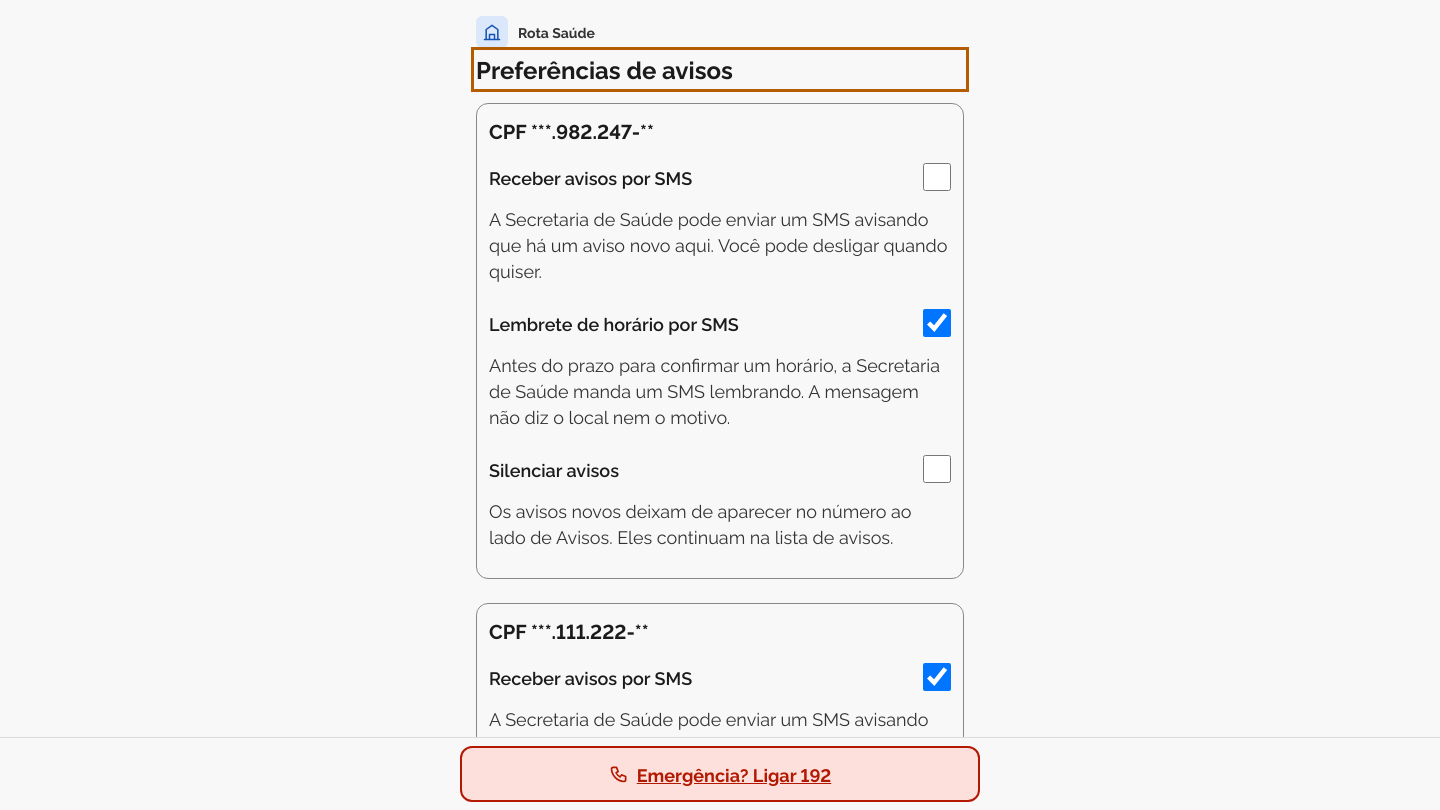
it: PreferencesStep › falha ao salvar: o interruptor volta, a seção mostra a mensagem e o Flow não é avisado
Step 1. Click the 1st switch labelled "Receber avisos por SMS" → [937, 177], box [923,163,951,191]
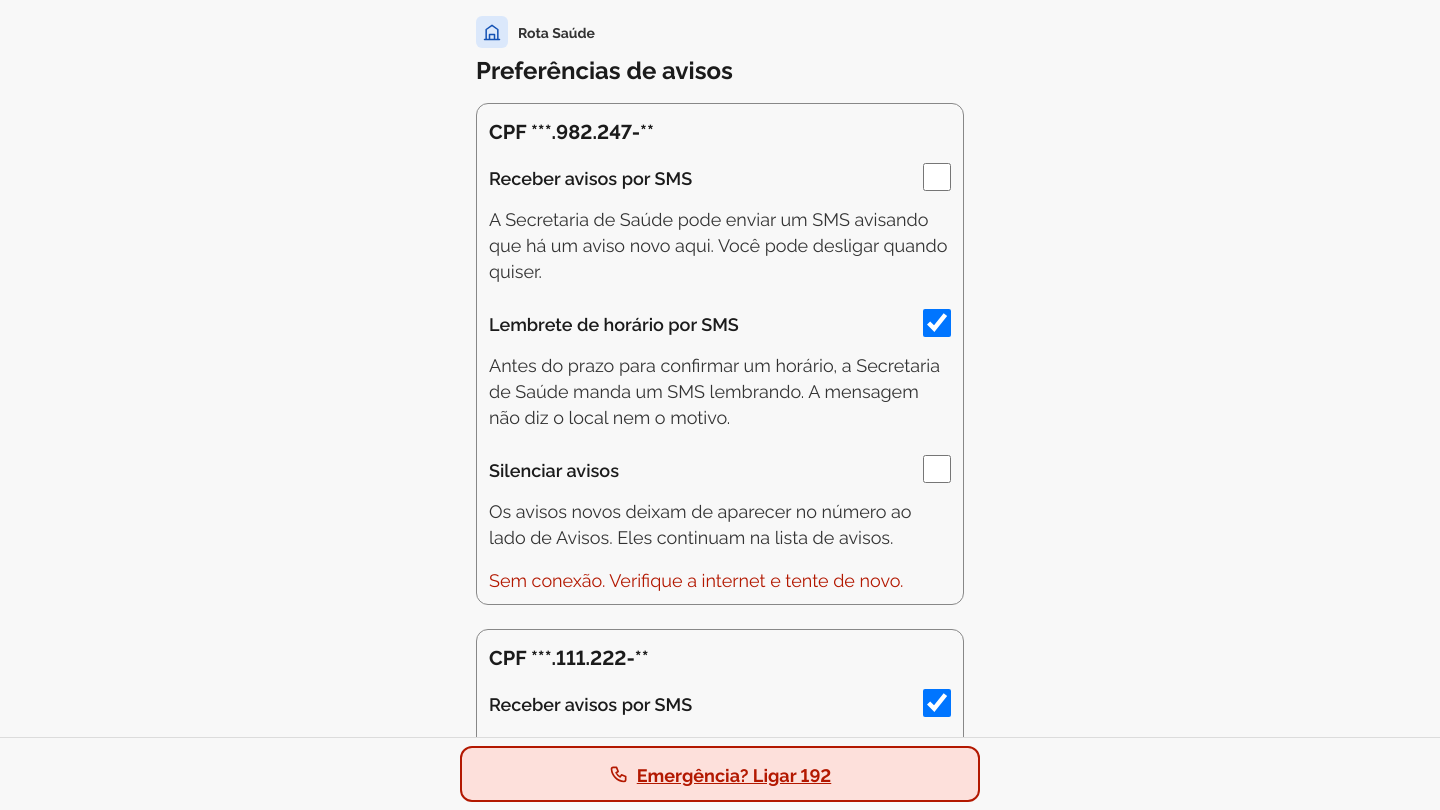
Result: the text "Sem conexão. Verifique a internet e tente de novo." is shown at [489,566,951,592]
